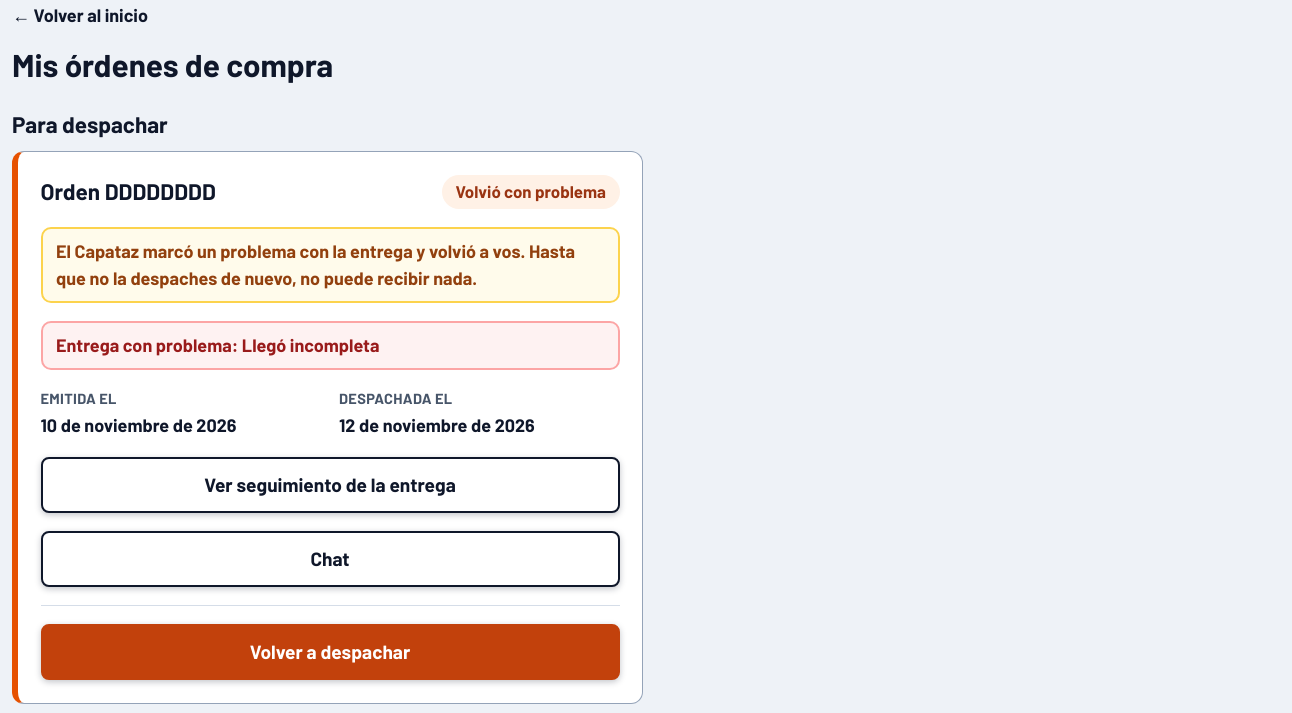
it: MisOrdenesProveedorPage: entrega parcial (#249) › una entrega con problema vuelve al proveedor y ofrece volver a despachar
Expected: the text "Volvió con problema" is shown, x1=442 y1=175 x2=620 y2=209
Step 1. Click the button "Volver a despachar" → (330,652), box x1=40 y1=624 x2=620 y2=680
(page scrolled)
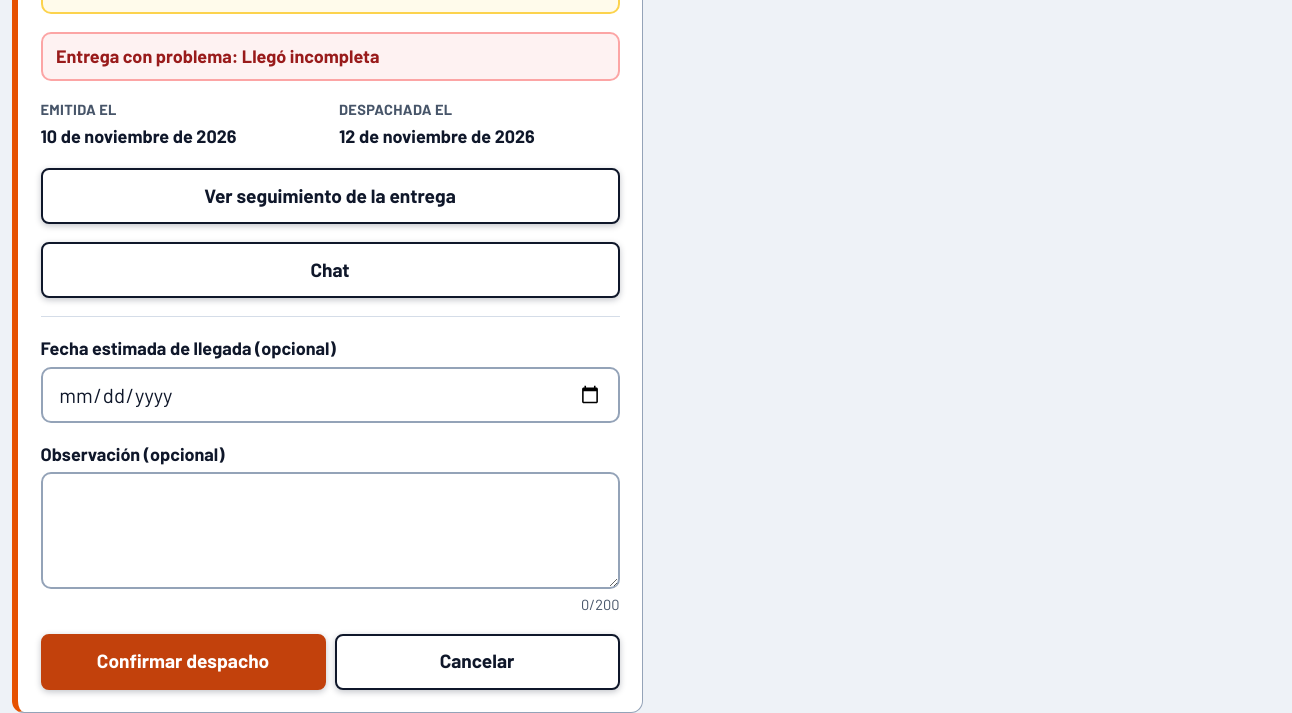
Step 2. Click the button "Confirmar despacho" → (183,662), box x1=40 y1=634 x2=326 y2=690
(page scrolled)
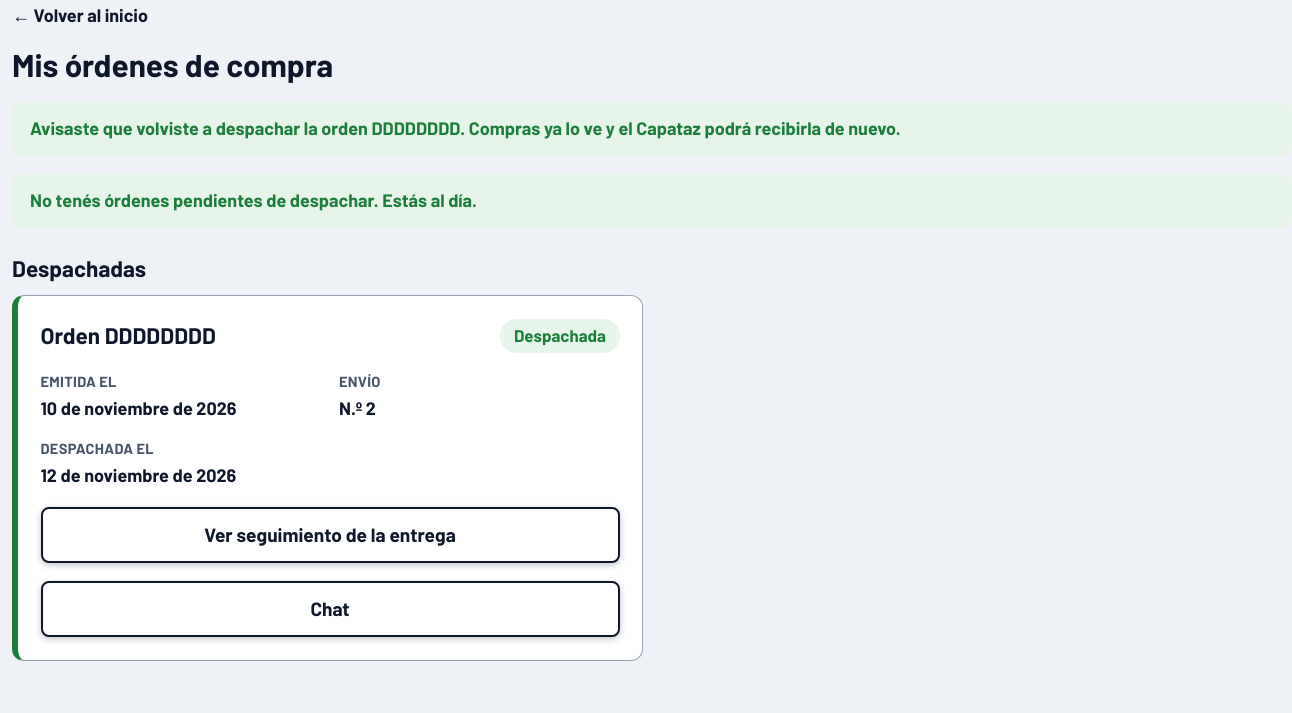
Expected: the button "Volver a despachar" is not shown
Expected: the message shows "volviste a despachar la orden DDDDDDDD", x1=30 y1=117 x2=901 y2=139
